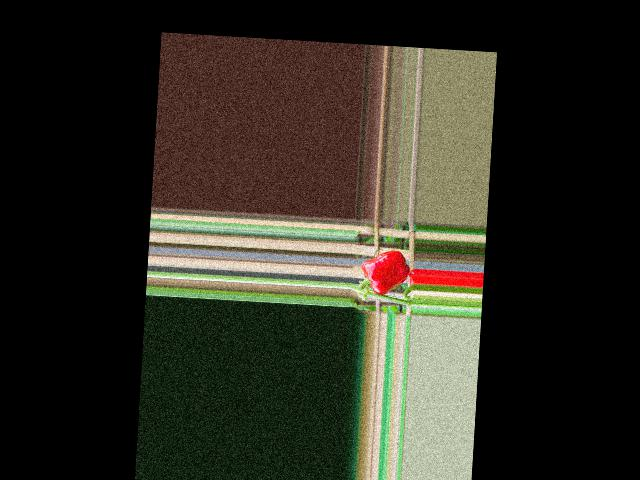bell_pepper: (359, 245, 410, 299)
